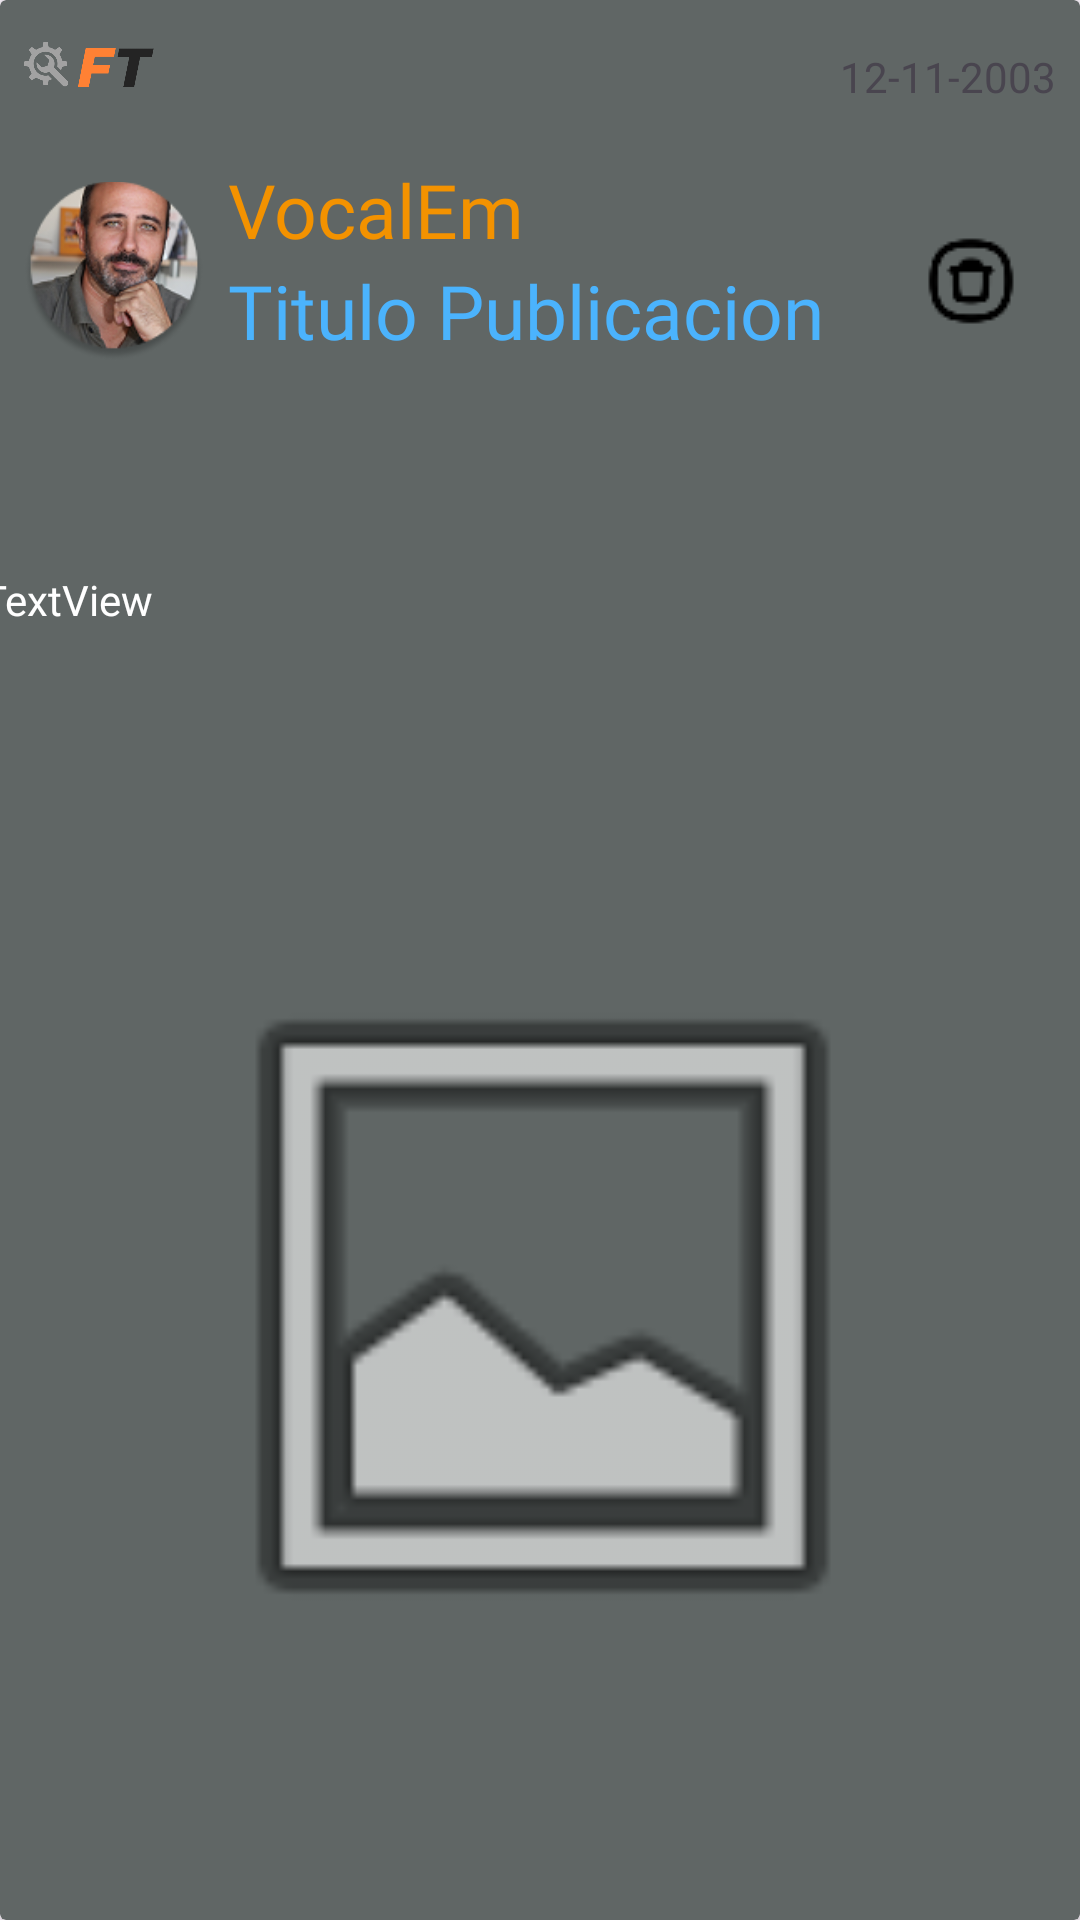

Point at icon controls on the screen. Image size 1080*1920, points as (x=x, y=y).
borrar: (x=971, y=281)
profile: (x=114, y=266)
